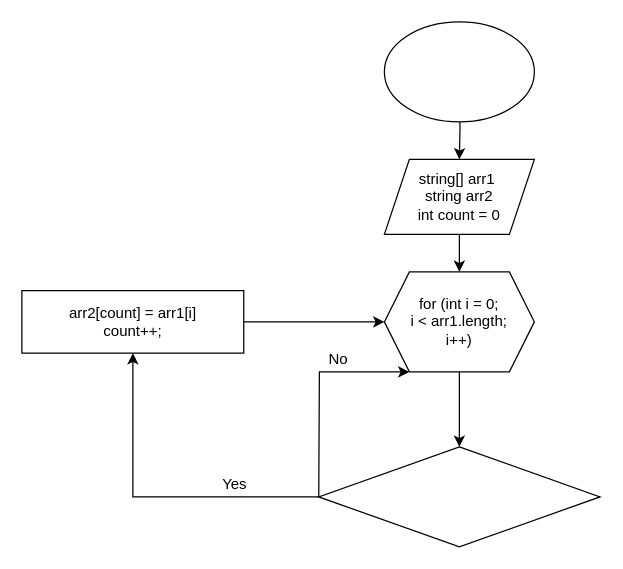
This 623x569 diagram has some shape labels left out. The shapes that lost their labels are listed below. From the top down, each one's centre as x and y in pixels, then its label:
At [458,71]: "ChangeArray".
At [459,496]: "if (arr1[i].length <= 3)".
